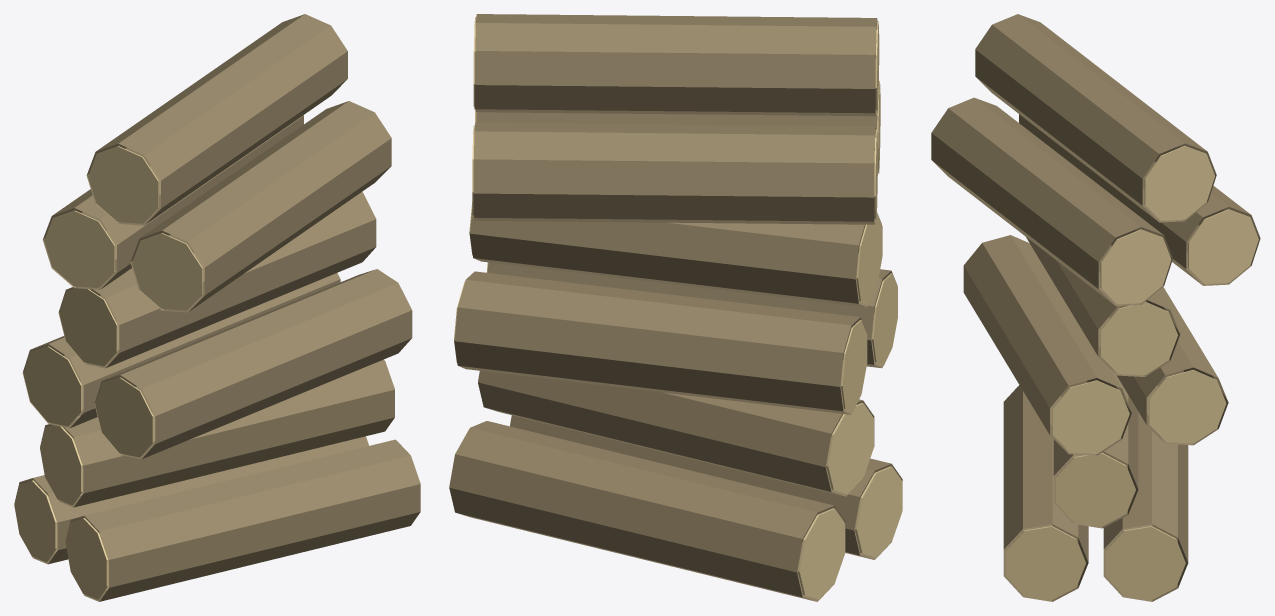
Rendered from Wood_Light.fbx.
3 renders of one model, left to right at view 1: azimuth 30°, elevation 25°; view 2: azimuth 150°, elevation 25°; view 3: azimuth 270°, elevation 25°, orthographic. The views are drawn at different scales.
Visible parts, largest first — view 1: Wood_Light__Stack, Wood_Light; view 2: Wood_Light__Stack, Wood_Light; view 3: Wood_Light__Stack, Wood_Light.
Boxes of the visible parts, x1,y1,x2,y2 form: Wood_Light__Stack: (22,14,420,601); Wood_Light: (14,360,420,601); Wood_Light__Stack: (449,14,901,601); Wood_Light: (471,399,902,601); Wood_Light__Stack: (931,14,1260,601); Wood_Light: (1003,385,1187,601).
Bounding box in the file's own units: 0.3166 × 0.3965 × 0.264.
